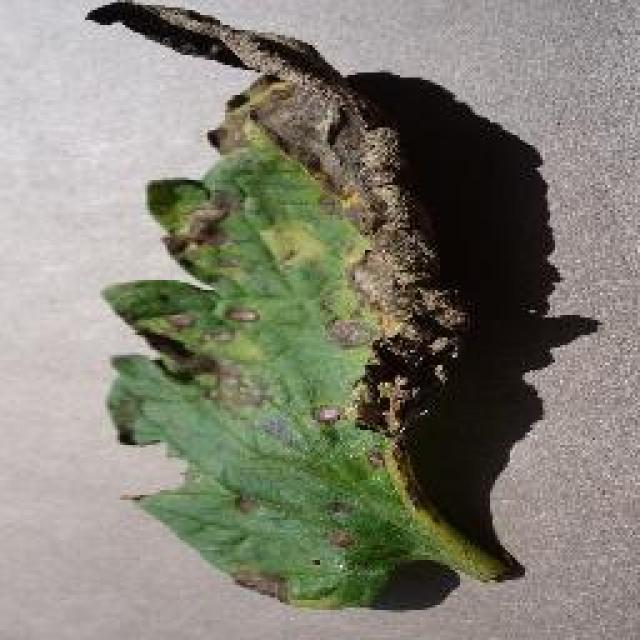Tomato Early blight leaf: (80, 0, 465, 613)
